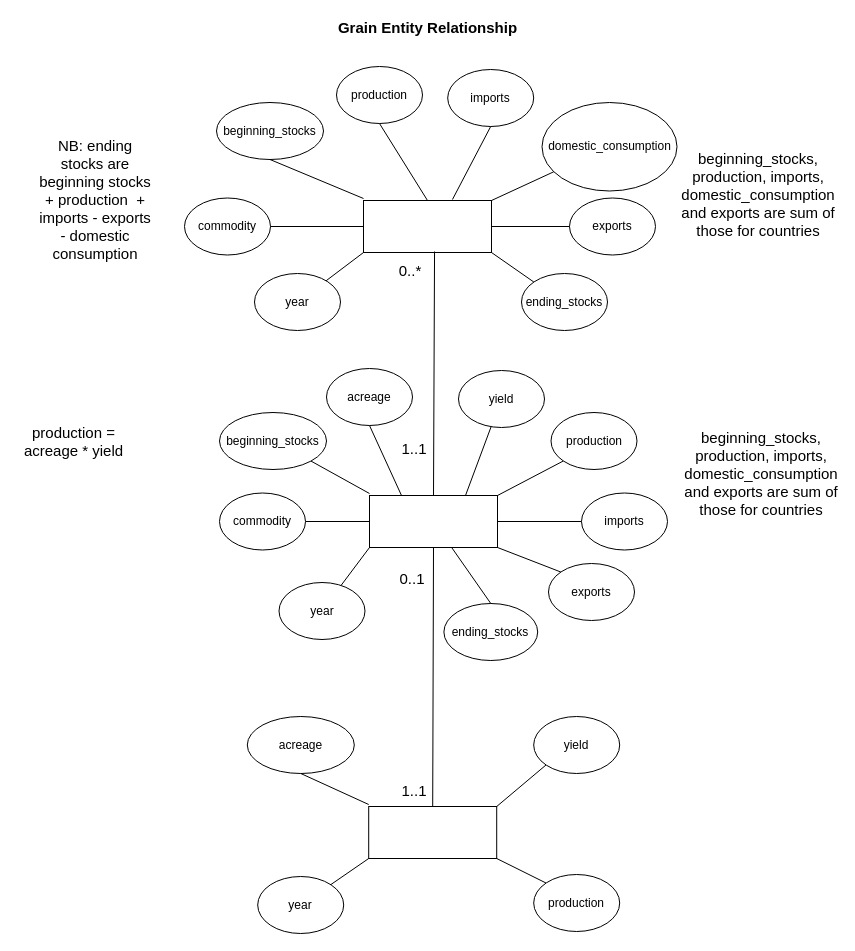
Image size: 855x951. Some labels were removed from this diagram. The centre of each missing label's shape, as x and y in pixels:
country_annual_grain: point (433, 521)
state_annual_grain: point (432, 832)
world_annual_grain: point (427, 226)
